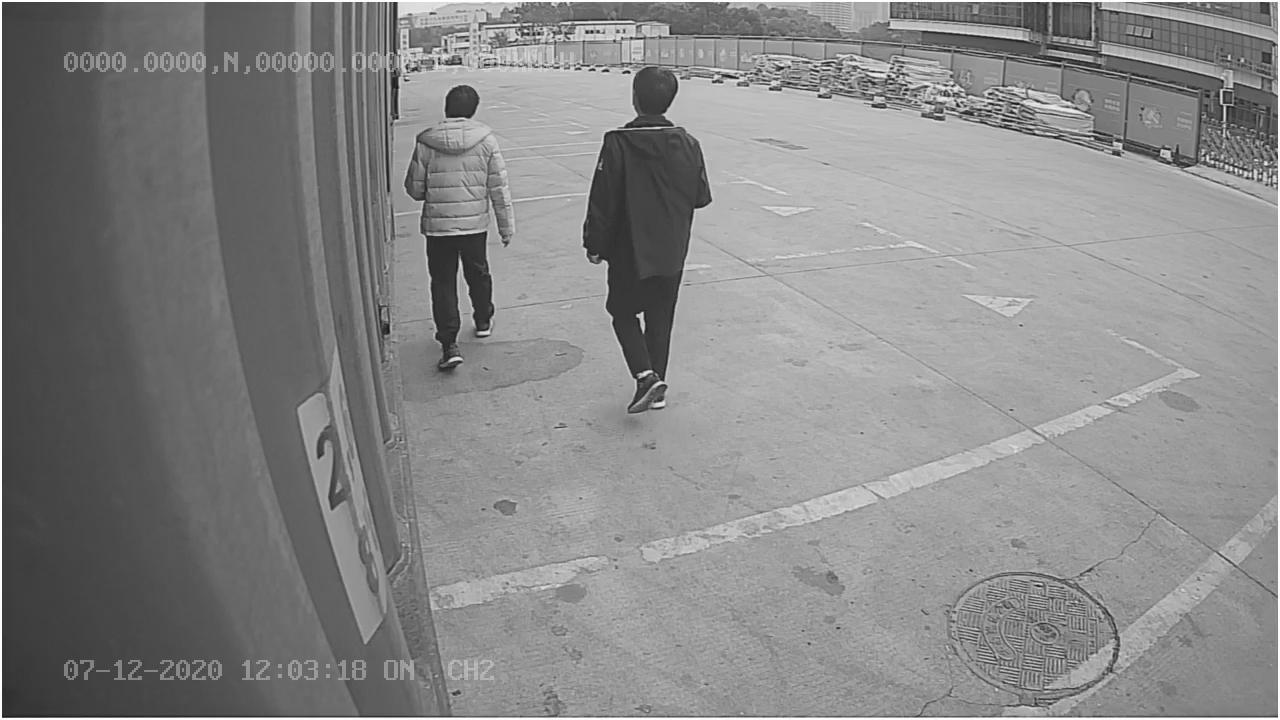person: (582, 57, 712, 415), (402, 84, 514, 372)
